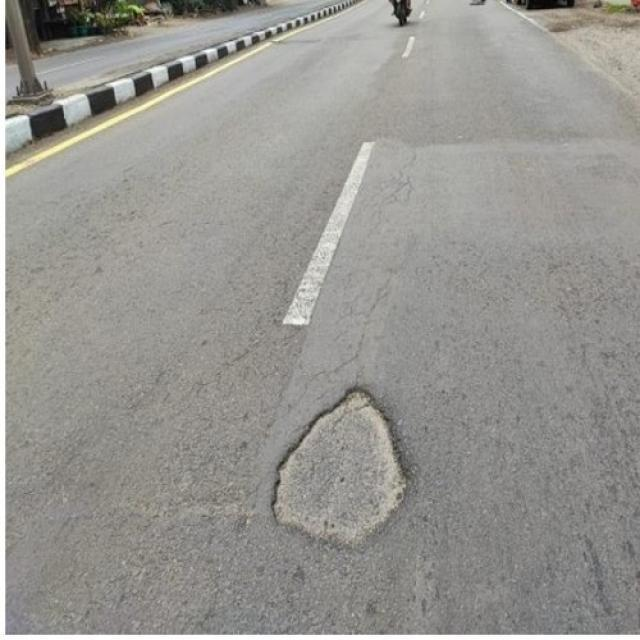Lubang: (270, 388, 421, 554)
